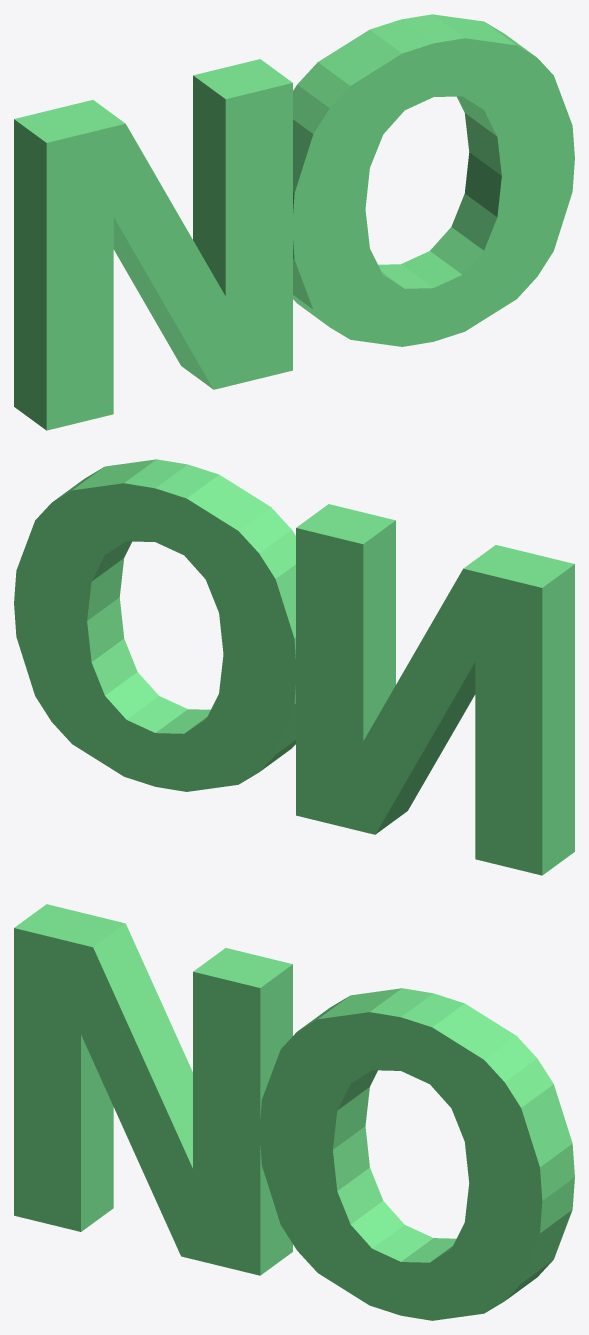
The model's file is suku_besar_no.glb.
3 renders of one model, top to bottom at view 1: azimuth 30°, elevation 25°; view 2: azimuth 150°, elevation 25°; view 3: azimuth 330°, elevation 25°, orthographic.
Parts seen in each view (by area): view 1: geometry_0; view 2: geometry_0; view 3: geometry_0.
Part boxes in pixels (left/top/right/bottom): geometry_0: left=14, top=14, right=574, bottom=430; geometry_0: left=14, top=459, right=574, bottom=875; geometry_0: left=14, top=904, right=574, bottom=1320.
Bounding box in the file's own units: 14.01 × 7.56 × 1.5.
